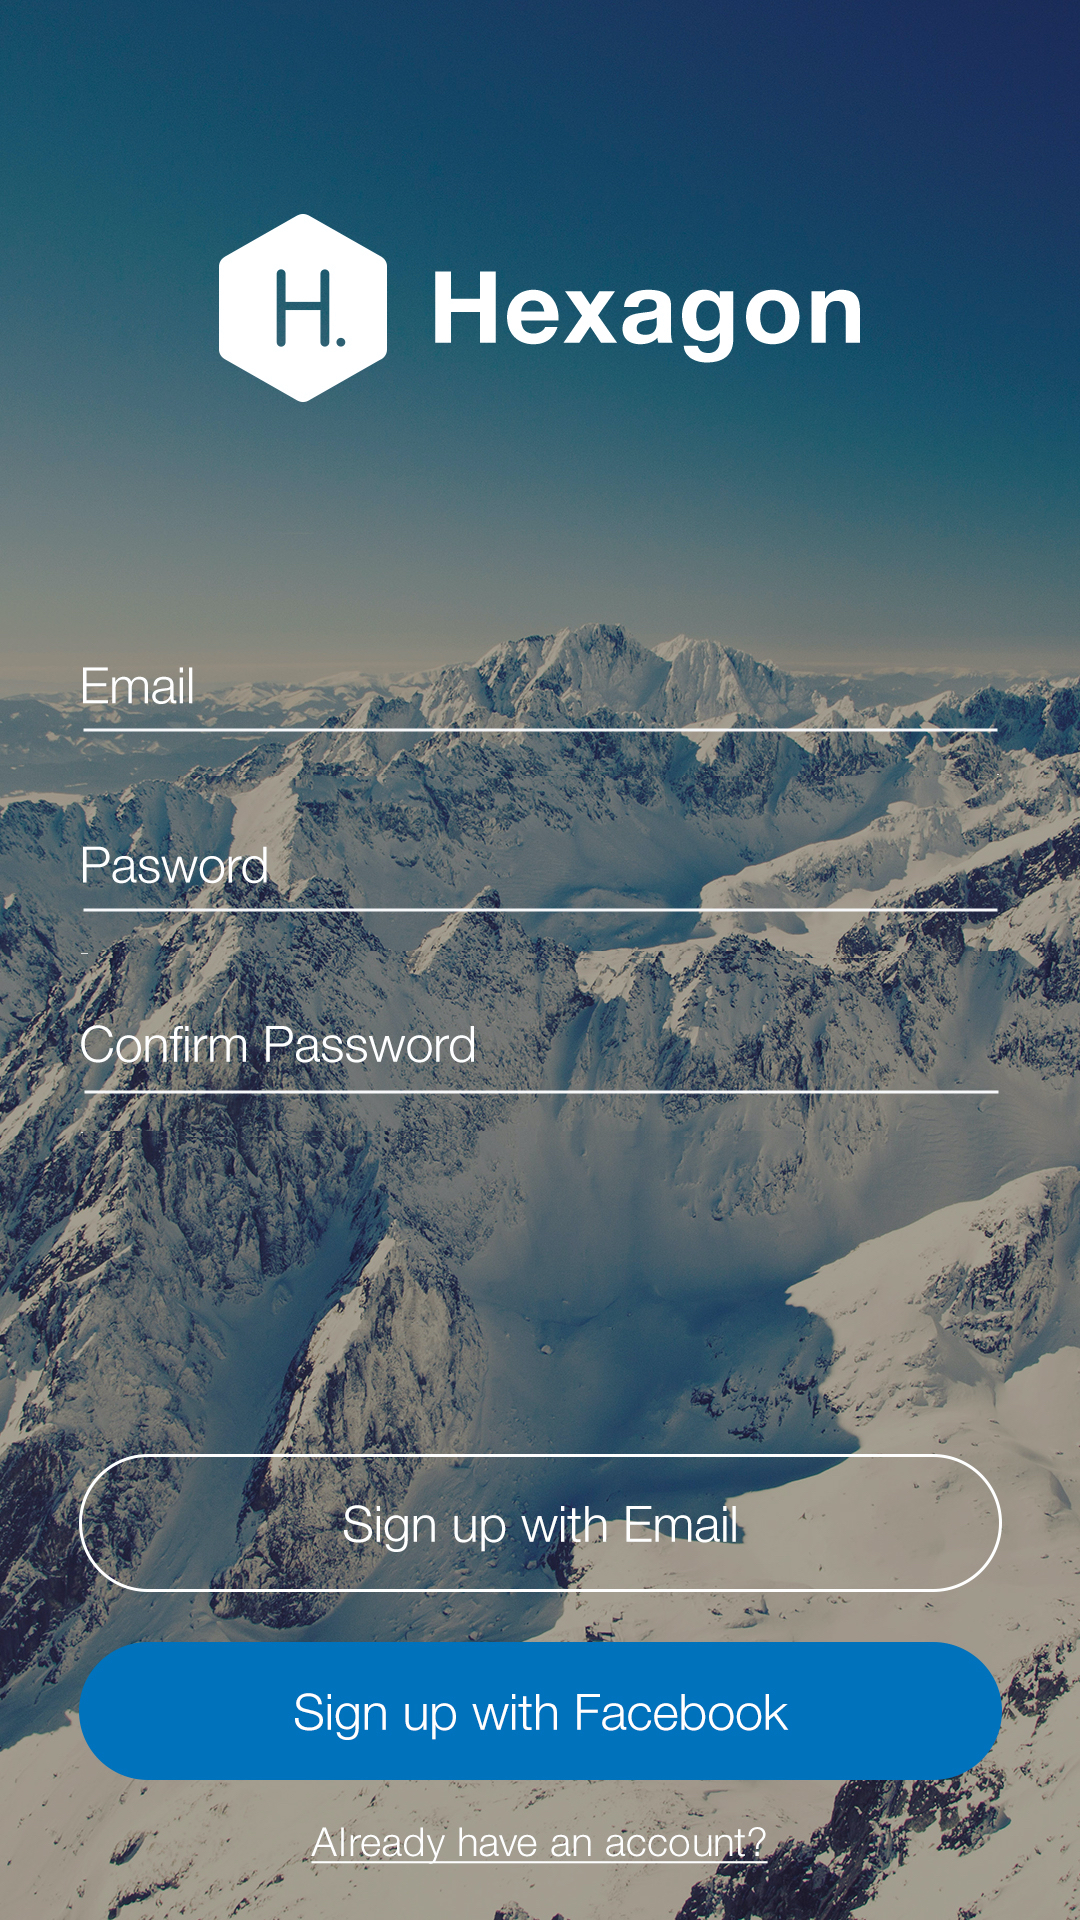BackgroundImage: (1, 1, 1080, 1920)
EditText: (80, 1025, 1000, 1095), (80, 666, 1000, 735), (80, 847, 1000, 914)
Image: (219, 214, 388, 404)
Text: (435, 272, 861, 365), (311, 1826, 769, 1865)
TextButton: (79, 1455, 1004, 1593), (79, 1642, 1002, 1780)
